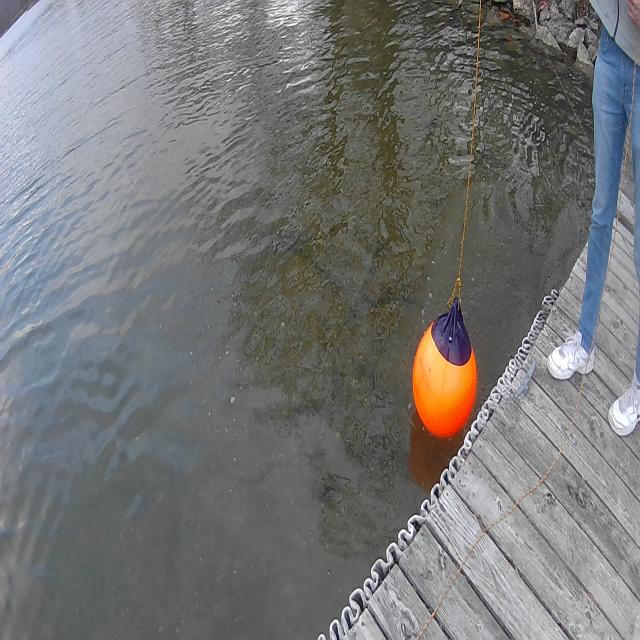Buoy: (408, 287, 480, 442)
